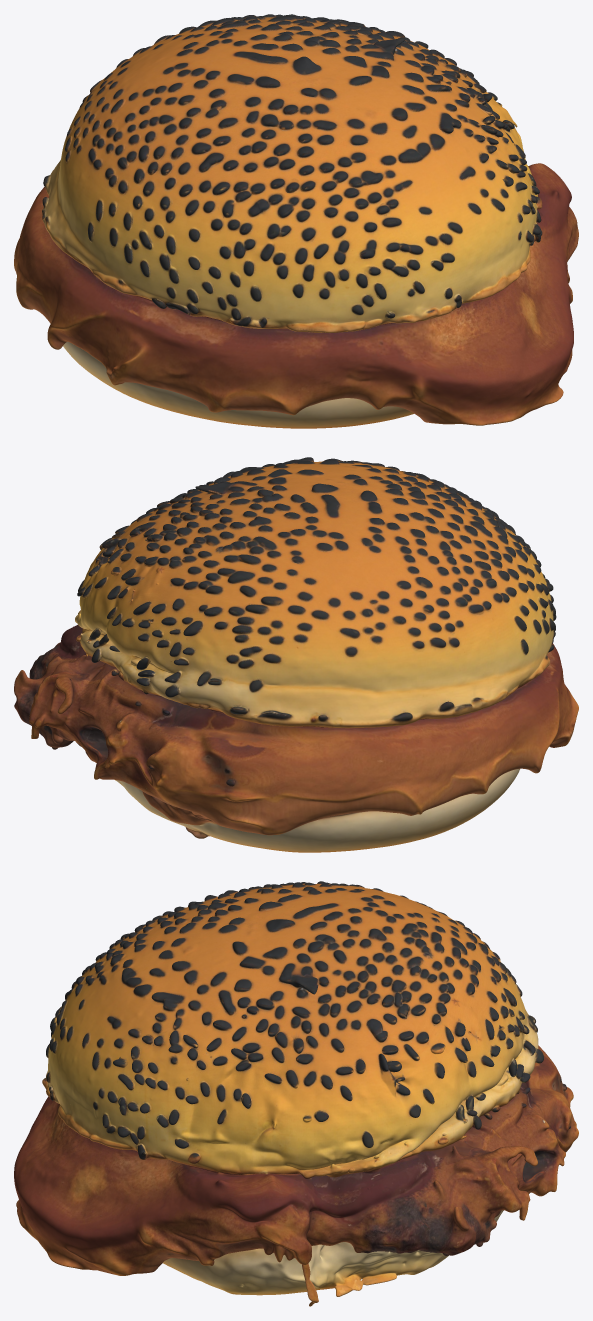
The picture shows the model from 3 angles, top to bottom: view 1: azimuth 30°, elevation 25°; view 2: azimuth 150°, elevation 25°; view 3: azimuth 270°, elevation 25°; orthographic projection. The views are drawn at different scales.
Parts seen in each view (by area): view 1: tripo_node_a042f073-136c-4690-a3ec-eff919148a9a; view 2: tripo_node_a042f073-136c-4690-a3ec-eff919148a9a; view 3: tripo_node_a042f073-136c-4690-a3ec-eff919148a9a.
Boxes of the visible parts, <box> form: tripo_node_a042f073-136c-4690-a3ec-eff919148a9a: <box>14,14,578,428</box>; tripo_node_a042f073-136c-4690-a3ec-eff919148a9a: <box>14,457,578,852</box>; tripo_node_a042f073-136c-4690-a3ec-eff919148a9a: <box>14,881,578,1306</box>.
Size of the model in its own units: 0.996 by 0.5746 by 1.
1 material, 1 textured.
